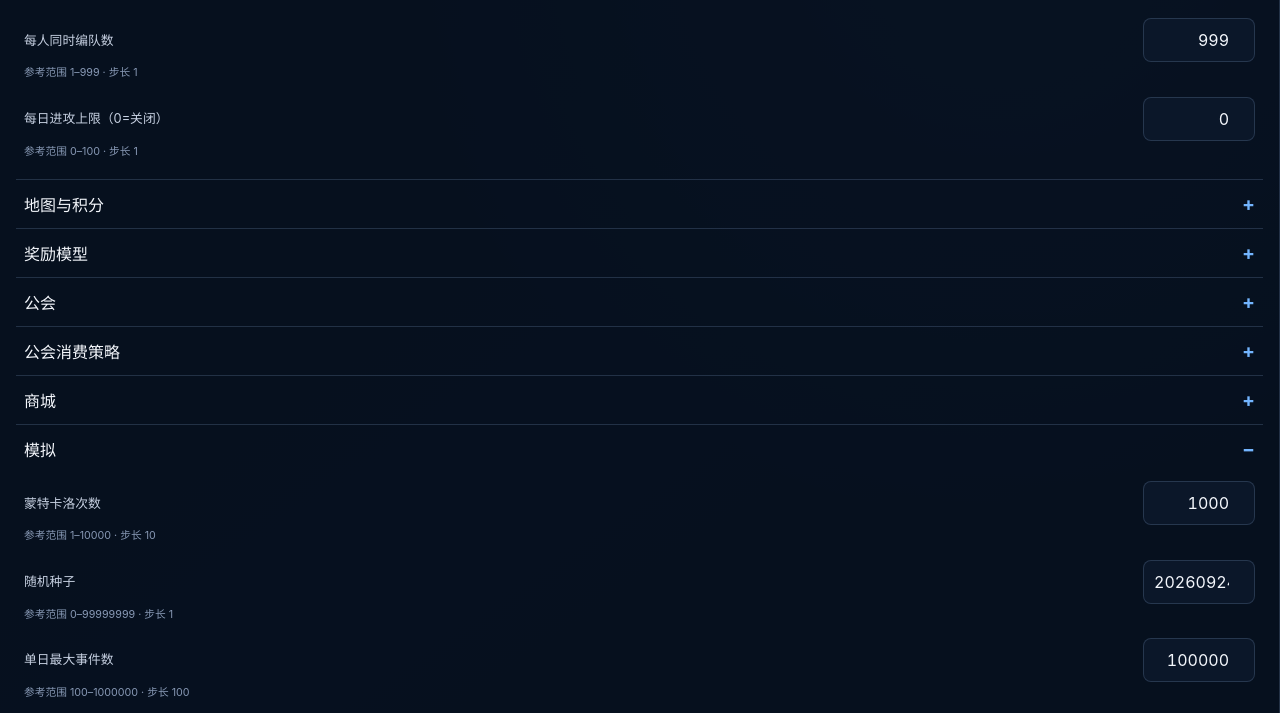
Test: ParameterSidebar › exposes recovery mechanics and global daily purchase limits
(page scrolled)
Click the heading "商城": (40, 401) left=24, top=391, right=56, bottom=411
(page scrolled)
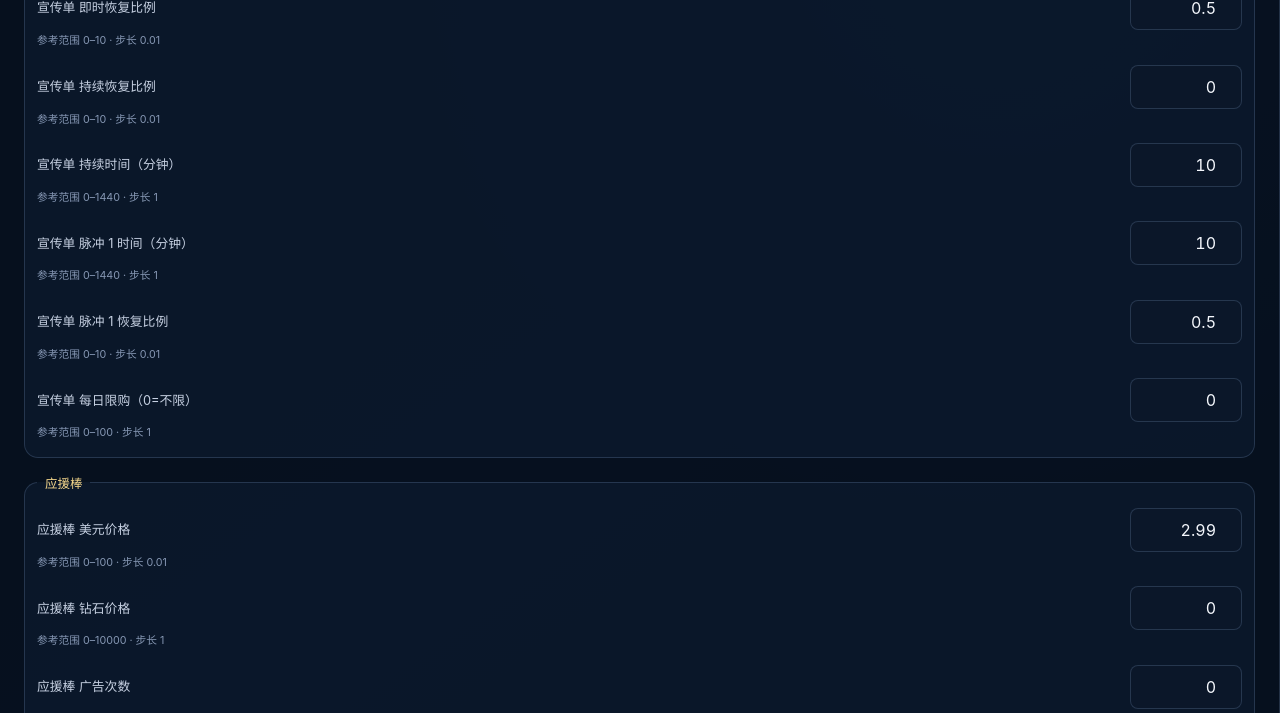
Now the number field labelled "宣传单 即时恢复比例" is shown, box left=1130, top=0, right=1242, bottom=30
Now the number field labelled "宣传单 脉冲 1 时间（分钟）" is shown, box left=1130, top=221, right=1242, bottom=265
Now the number field labelled "宣传单 每日限购（0=不限）" is shown, box left=1130, top=378, right=1242, bottom=422
